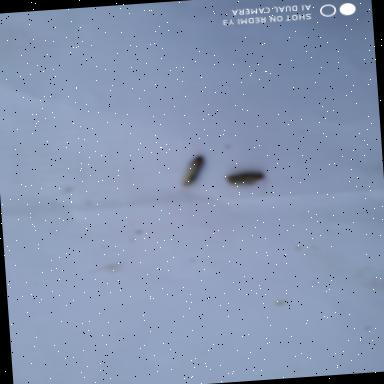pbw: (172, 151, 216, 194), (220, 166, 280, 190)
